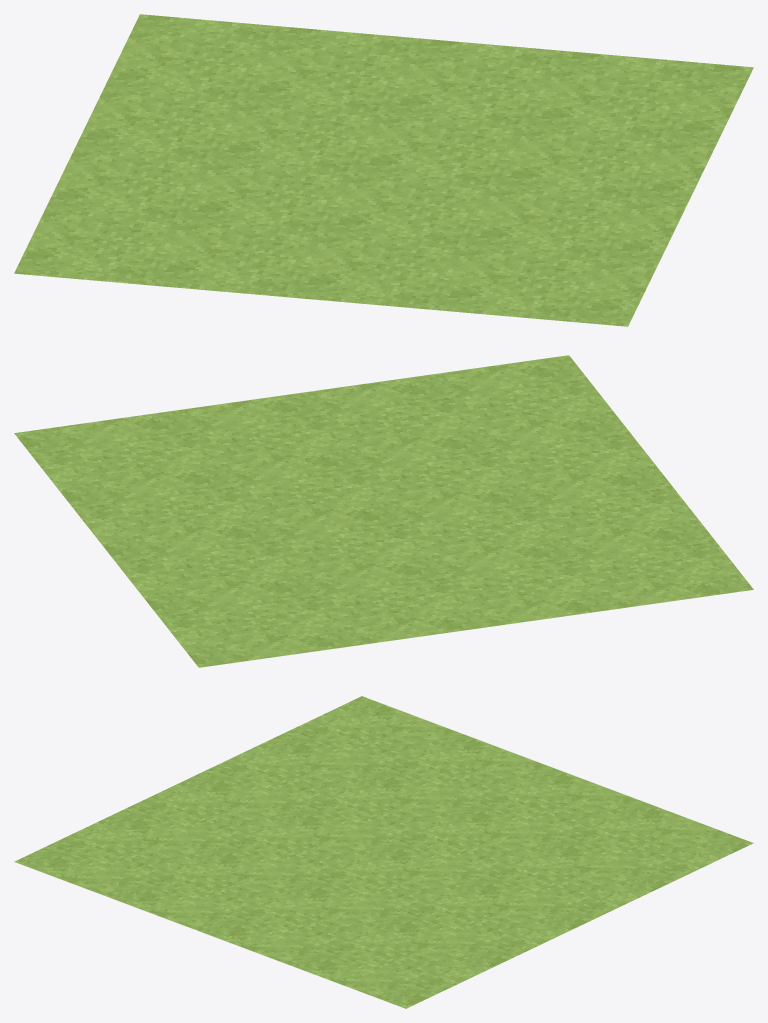
File: kd_stage_1366d7_7_3.glb
3 views of the same model, one above another, from view 1: azimuth 30°, elevation 25°; view 2: azimuth 150°, elevation 25°; view 3: azimuth 270°, elevation 25° (orthographic). The views are drawn at different scales.
Parts seen in each view (by area): view 1: kd_stage_1366d7_7_3; view 2: kd_stage_1366d7_7_3; view 3: kd_stage_1366d7_7_3.
Boxes of the visible parts, <box> form: kd_stage_1366d7_7_3: <box>14,14,753,326</box>; kd_stage_1366d7_7_3: <box>14,355,753,667</box>; kd_stage_1366d7_7_3: <box>14,696,753,1008</box>.
Bounding box in the file's own units: 79.86 × 9.78e-06 × 79.84.
1 material, 1 textured.
